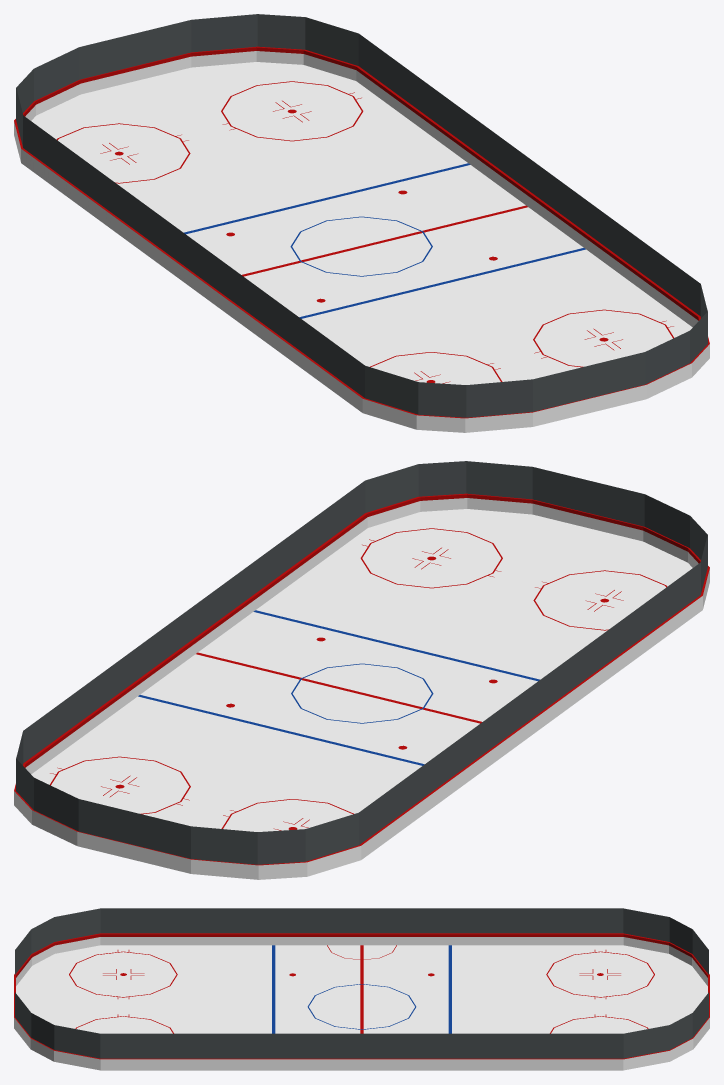
File: Ice_hockey_rink.fbx
The picture shows the model from 3 angles, top to bottom: view 1: azimuth 30°, elevation 25°; view 2: azimuth 150°, elevation 25°; view 3: azimuth 270°, elevation 25°; orthographic projection. The views are drawn at different scales.
Parts seen in each view (by area): view 1: Ice_hockey_rink; view 2: Ice_hockey_rink; view 3: Ice_hockey_rink.
Boxes of the visible parts, x1=… form: Ice_hockey_rink: x1=14, y1=14, x2=709, y2=432; Ice_hockey_rink: x1=14, y1=461, x2=709, y2=879; Ice_hockey_rink: x1=14, y1=908, x2=709, y2=1070.
Size of the model in its own units: 1042 by 138 by 2414.
